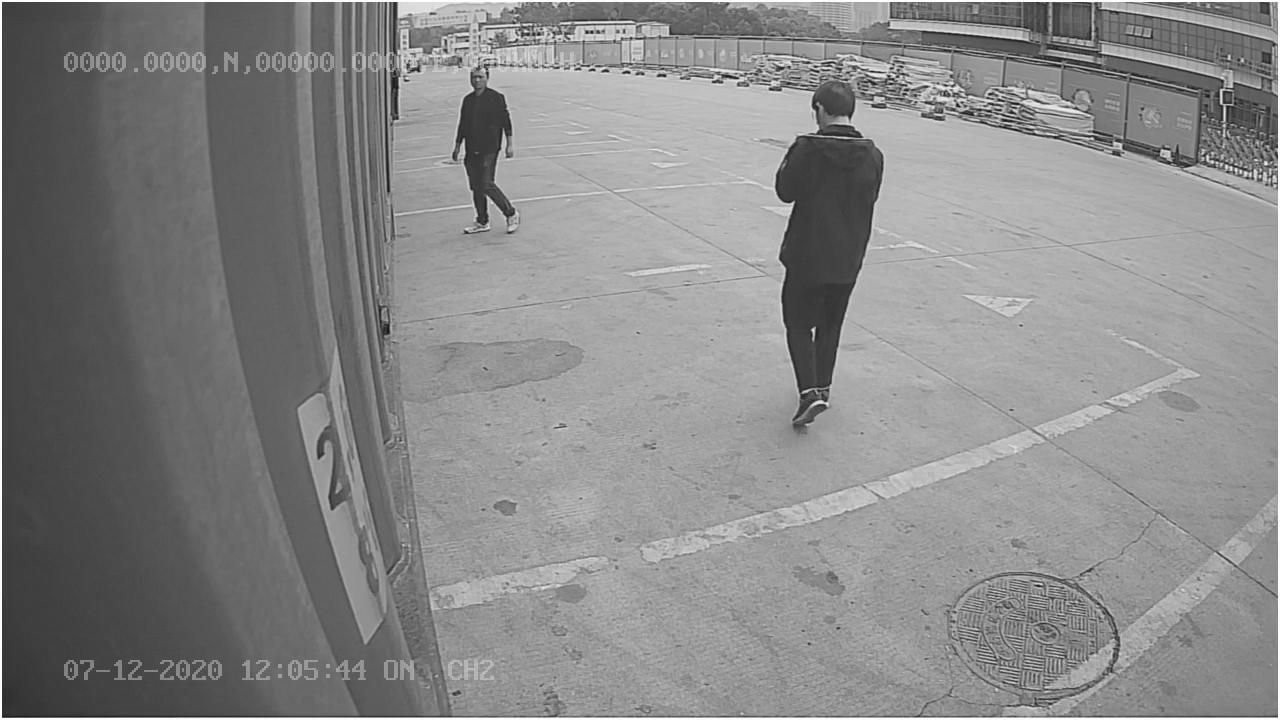person: (764, 72, 887, 431)
